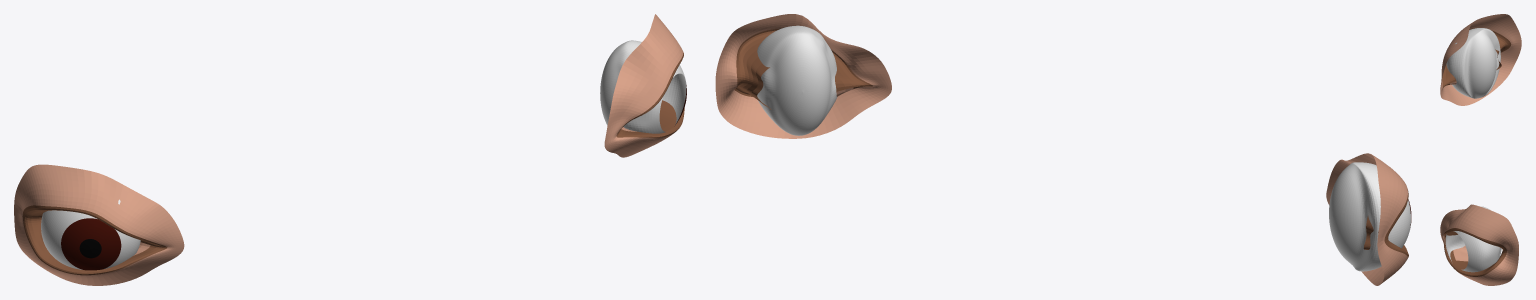
3 renders of one model, left to right at view 1: azimuth 30°, elevation 25°; view 2: azimuth 150°, elevation 25°; view 3: azimuth 270°, elevation 25°, orthographic. The views are drawn at different scales.
Visible parts, largest first — view 1: Eyes_2; view 2: Eyes_2; view 3: Eyes_2.
Boxes of the visible parts, x1,y1,x2,y2 form: Eyes_2: [14, 14, 686, 285]; Eyes_2: [715, 14, 1411, 285]; Eyes_2: [1440, 14, 1521, 285].
Size of the model in its own units: 0.6219 by 0.1084 by 0.1006.
